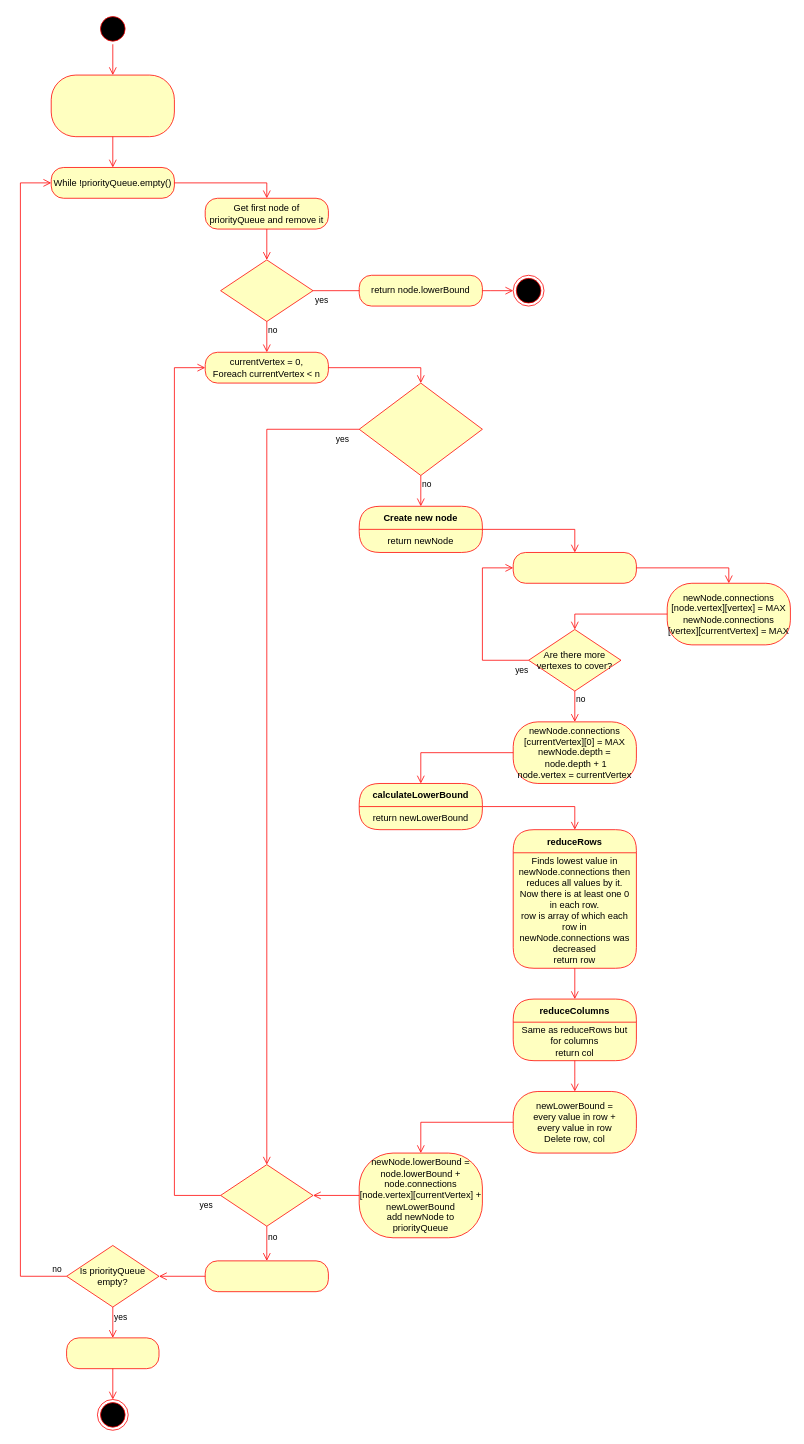
Some shapes in this 804 by 1444 pixel diagram are drawn without their labels. Each missing label, with the centre of its shape:
Are there more currentVertexes to cover?: [266,1195]
Create root of the tree, calculate its lowerBound Add it to priorityQueue: [112,105]
delete node: [266,1276]
Is node.connections [node.vertex] [currentVertex] == MAX?: [420,428]
Is node.depth == n - 1?: [266,290]
something went wrong return MAX: [112,1353]
vertex = 0, Foreach vertex < n: [574,567]
